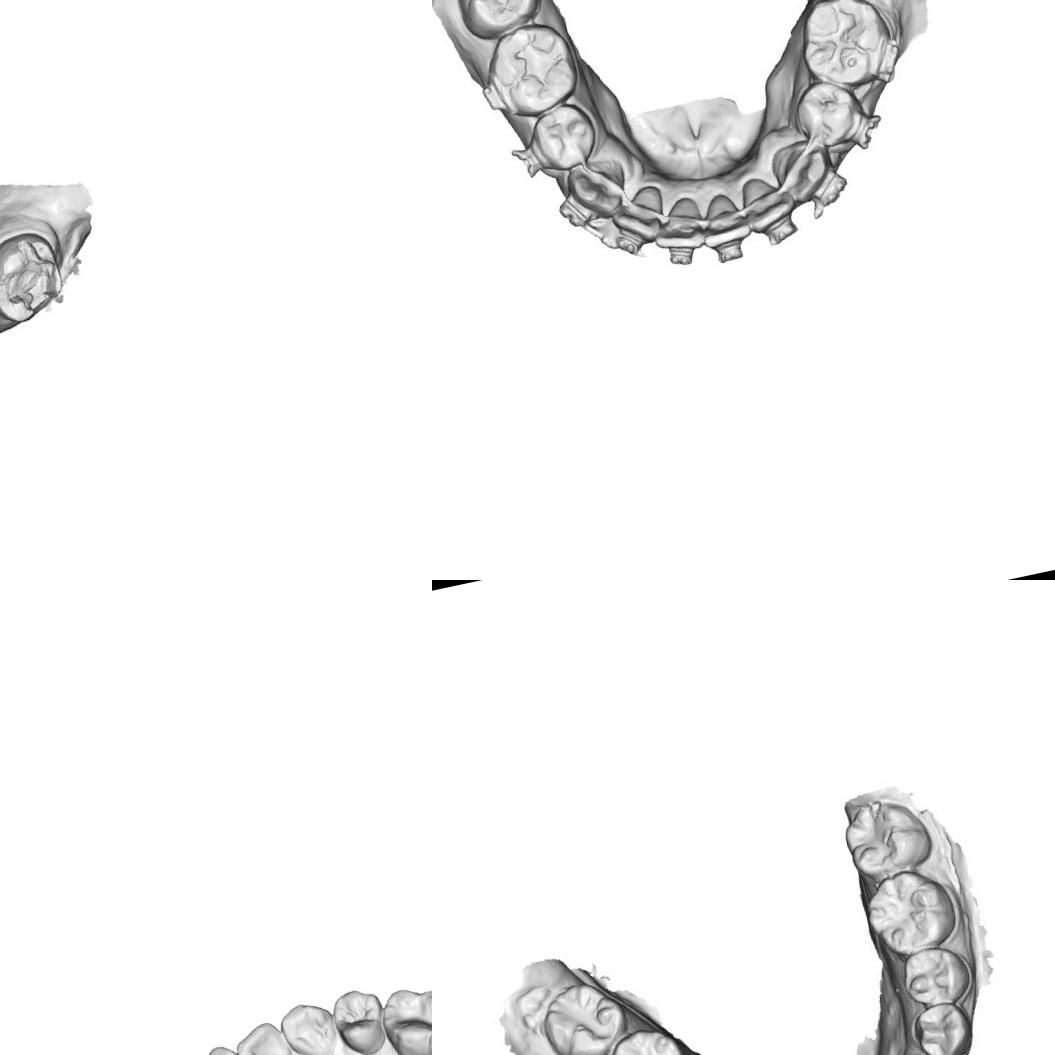canine: (561, 154, 633, 222), (766, 134, 834, 200), (274, 995, 343, 1055)
incisor: (605, 182, 672, 244), (694, 187, 755, 252), (738, 170, 799, 234), (647, 195, 707, 257), (230, 1015, 298, 1055), (182, 1037, 265, 1055)
inlay: (0, 234, 64, 320)
molar: (484, 20, 582, 121), (792, 0, 895, 95), (861, 865, 958, 960), (836, 792, 938, 882), (536, 973, 634, 1055), (373, 975, 432, 1055), (445, 0, 546, 44), (602, 1021, 696, 1055)
premolar: (526, 95, 604, 177), (792, 75, 864, 148), (900, 940, 970, 1010), (328, 984, 391, 1055), (912, 999, 980, 1055)
